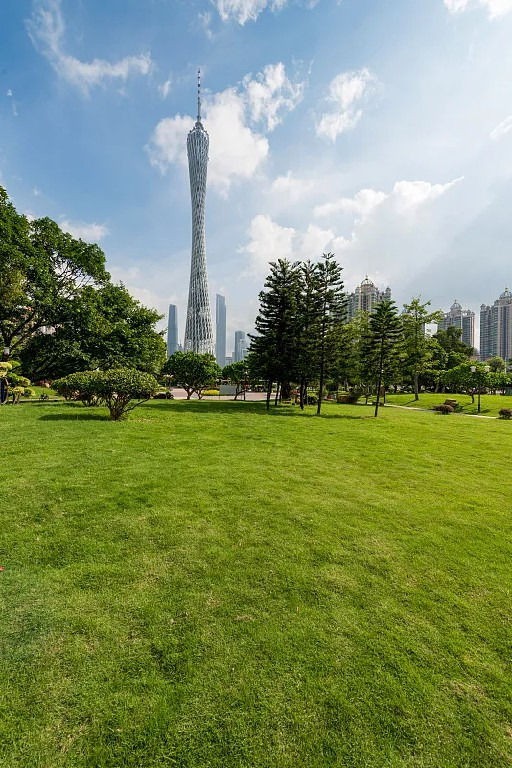Canton: (185, 64, 214, 357)
